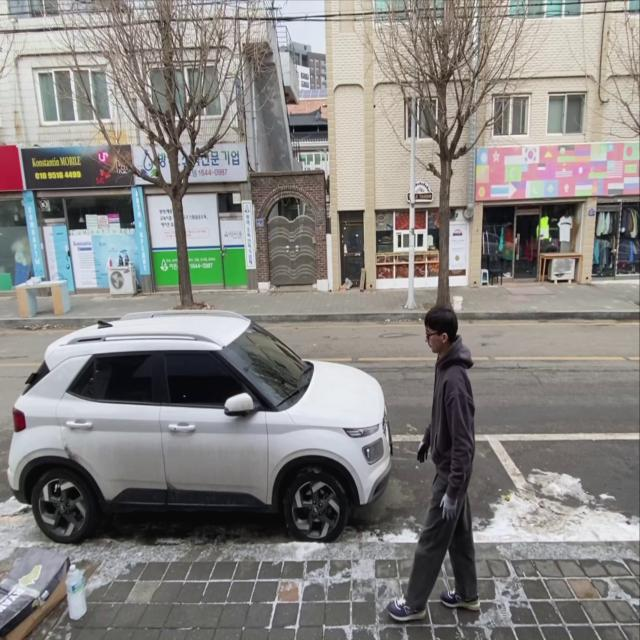gloved_hand: (440, 482, 461, 523), (414, 438, 432, 464)
